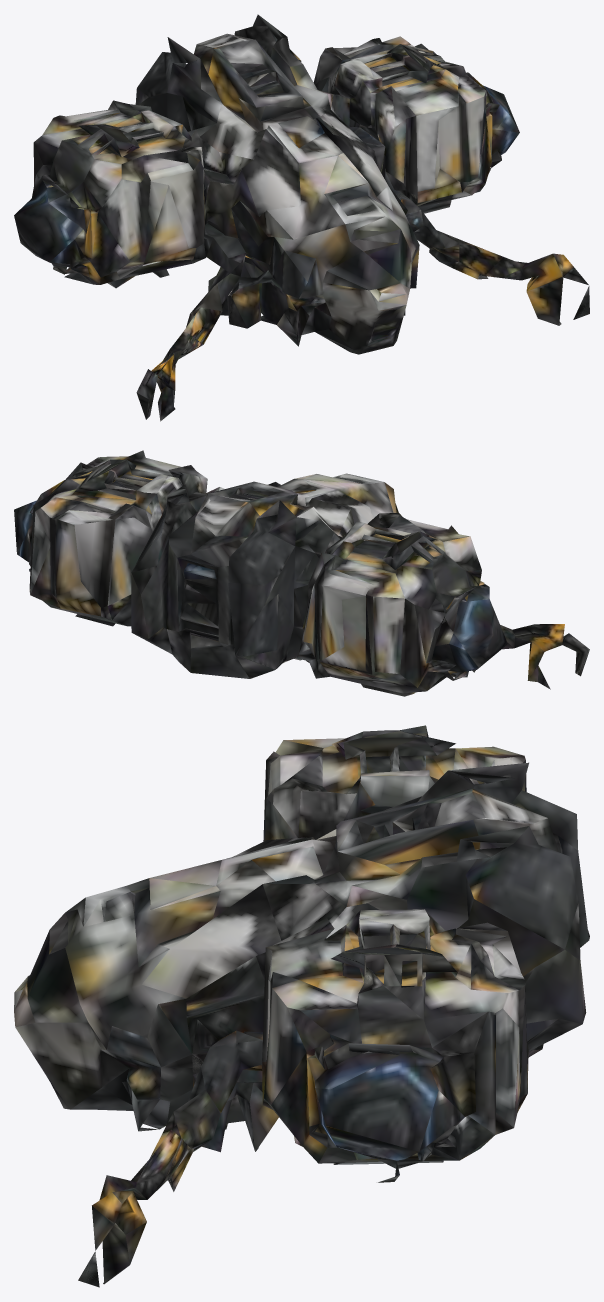
Rendered from garbage-collector_lod.glb.
3 views of the same model, one above another, from view 1: azimuth 30°, elevation 25°; view 2: azimuth 150°, elevation 25°; view 3: azimuth 270°, elevation 25° (orthographic). The views are drawn at different scales.
Bounding box in the file's own units: 1.87 × 0.888 × 1.32.
1 material, 1 textured.
